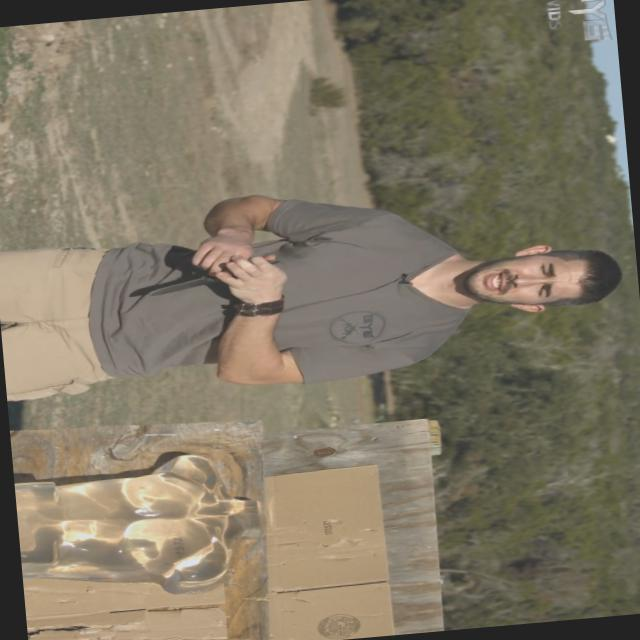knife: (137, 236, 284, 300)
